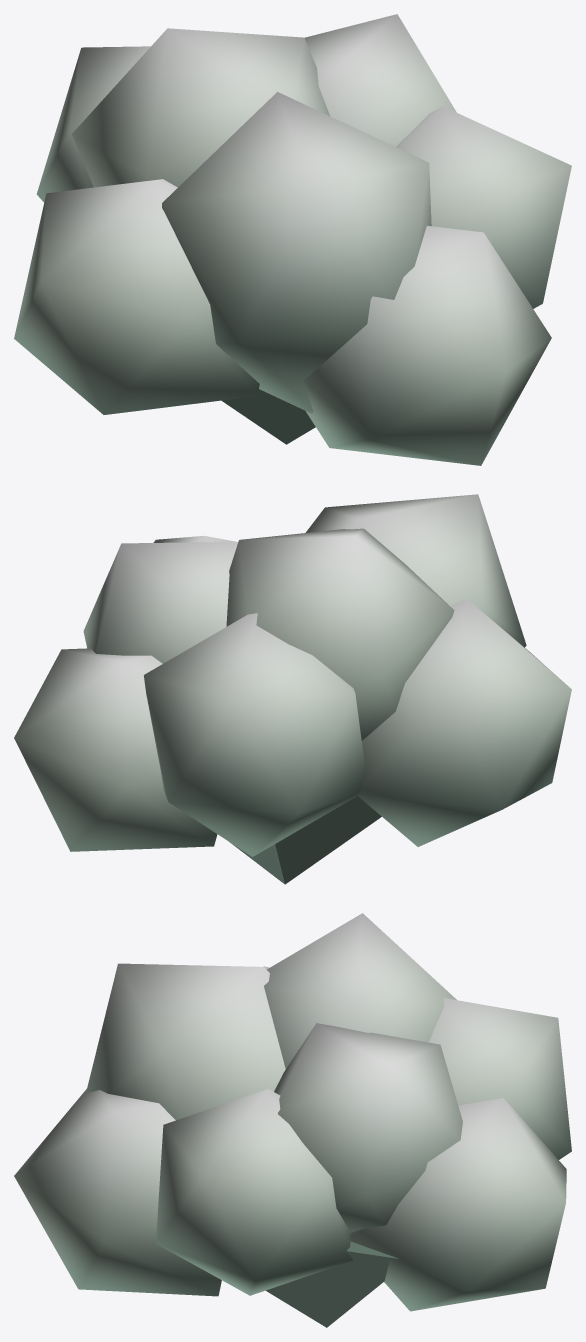
File: coral-bubble.glb
3 views of the same model, one above another, from view 1: azimuth 30°, elevation 25°; view 2: azimuth 150°, elevation 25°; view 3: azimuth 270°, elevation 25° (orthographic). The views are drawn at different scales.
Visible parts, largest first — view 1: coral-bubble_mesh; view 2: coral-bubble_mesh; view 3: coral-bubble_mesh.
Boxes of the visible parts, x1,y1,x2,y2 form: coral-bubble_mesh: (14,14,571,465); coral-bubble_mesh: (14,494,571,884); coral-bubble_mesh: (14,913,571,1327).
Size of the model in its own units: 0.3289 by 0.265 by 0.3595.
